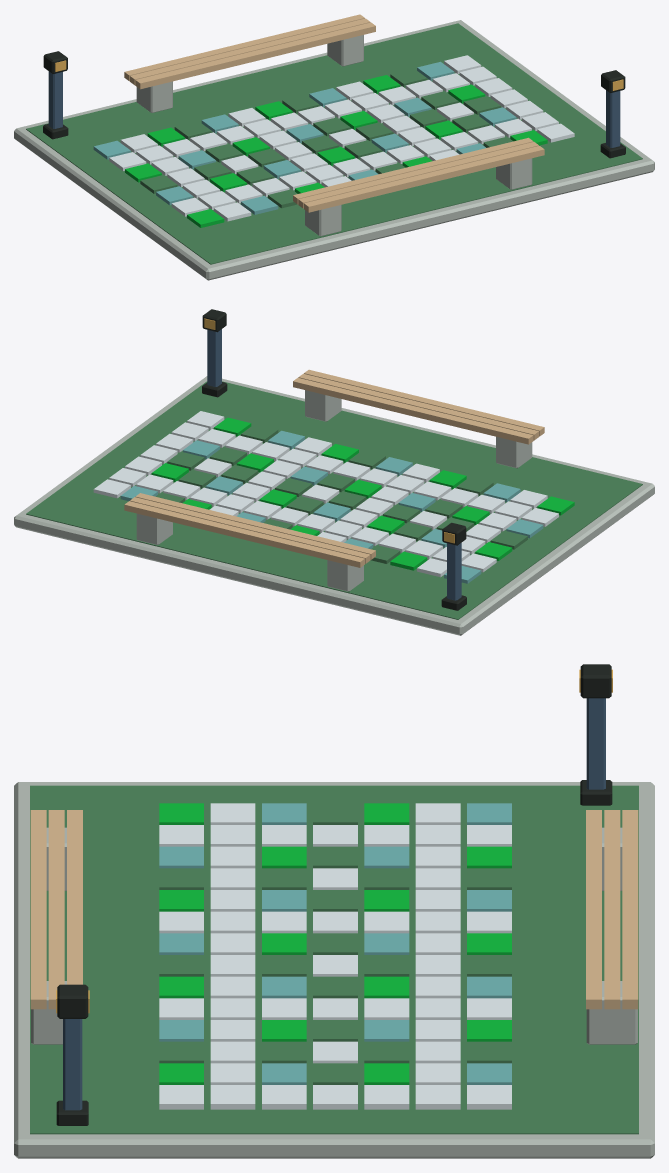
File: gh_courtyard_v01.glb
3 renders of one model, top to bottom at view 1: azimuth 30°, elevation 25°; view 2: azimuth 150°, elevation 25°; view 3: azimuth 270°, elevation 25°, orthographic. The views are drawn at different scales.
Visible parts, largest first — view 1: Contribution garden with integrated seating; view 2: Contribution garden with integrated seating; view 3: Contribution garden with integrated seating.
Boxes of the visible parts, x1,y1,x2,y2 form: Contribution garden with integrated seating: (14,14,654,280); Contribution garden with integrated seating: (14,309,654,635); Contribution garden with integrated seating: (14,664,654,1158).
Size of the model in its own units: 8 by 1.55 by 6.
Materials: 1 (1 with a texture image).
